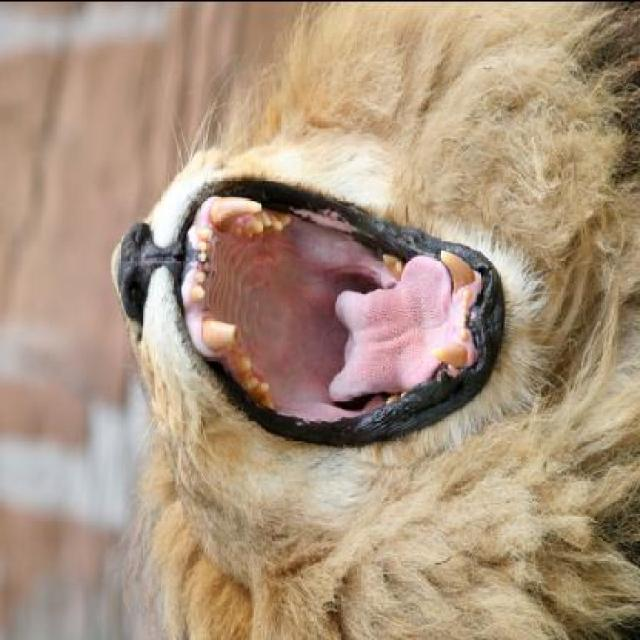Lion: (86, 4, 639, 638)
